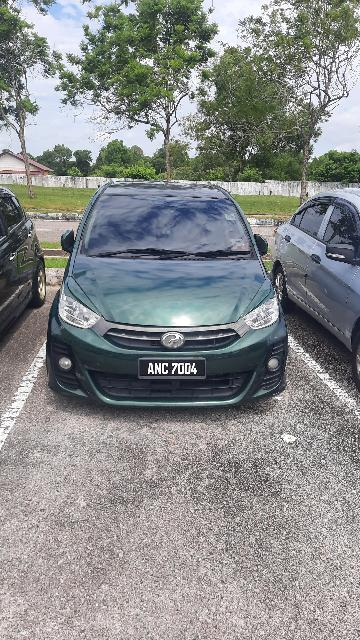License_Plate: (138, 356, 210, 383)
car: (45, 181, 294, 417)
